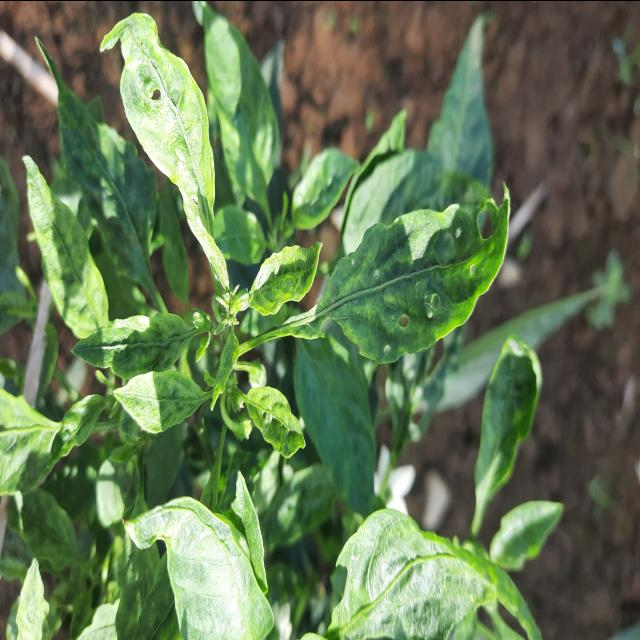thrips: (107, 6, 224, 220), (229, 208, 333, 324), (244, 384, 314, 458)
